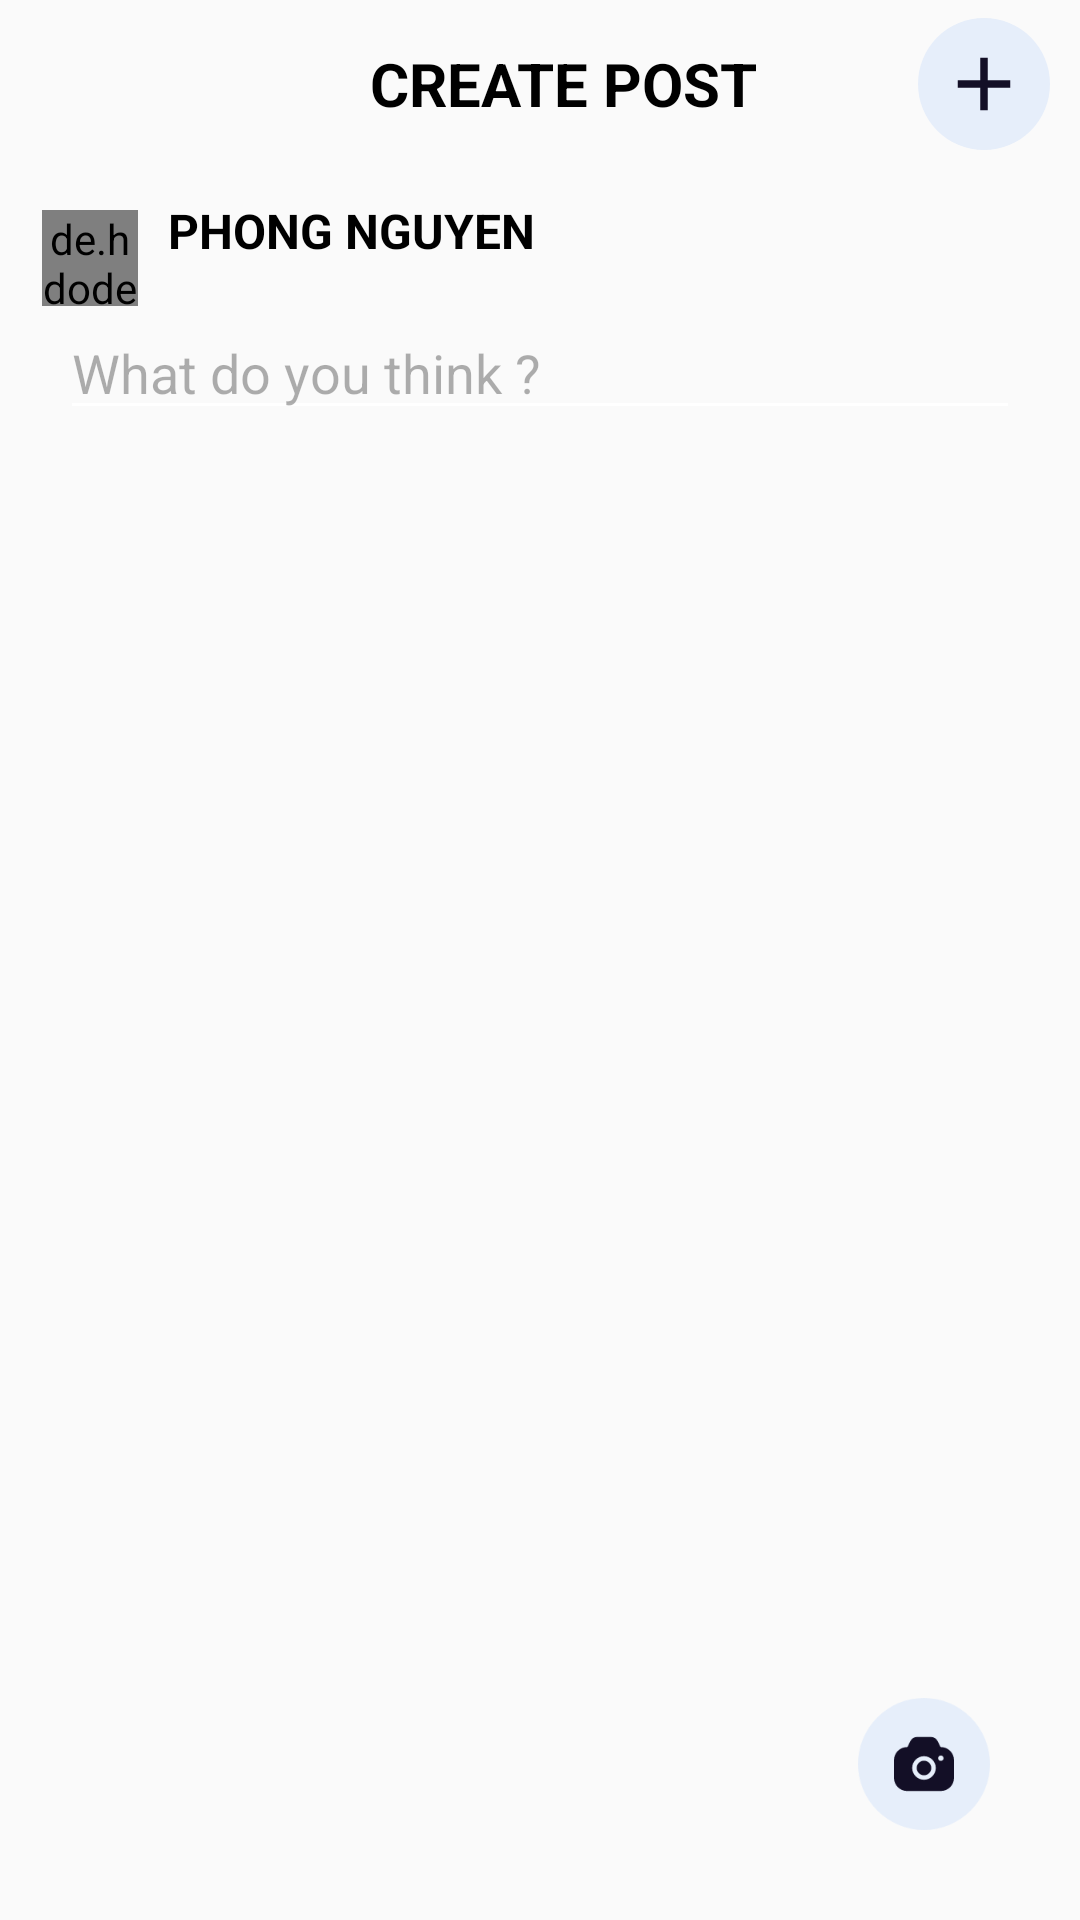

Icons on this 1080 x 1920 Android screen, each with the point to tap as [x,y]:
add: [984,84]
camera: [924,1764]
